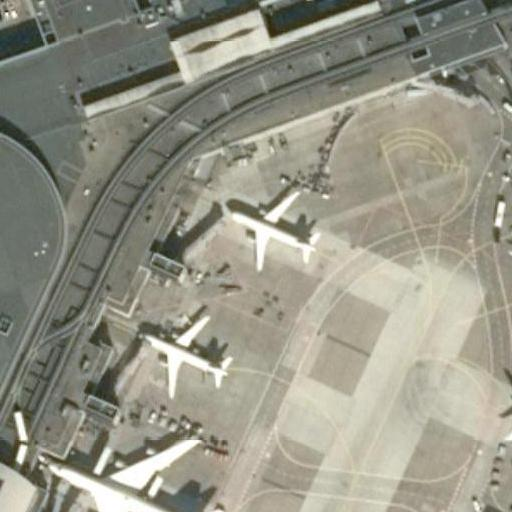Aircraft: (37, 428, 227, 512), (42, 430, 224, 512), (133, 307, 233, 398), (221, 182, 320, 272), (135, 309, 234, 396), (222, 183, 321, 270), (501, 369, 512, 512), (503, 352, 512, 512), (504, 183, 512, 302), (507, 181, 512, 303)
